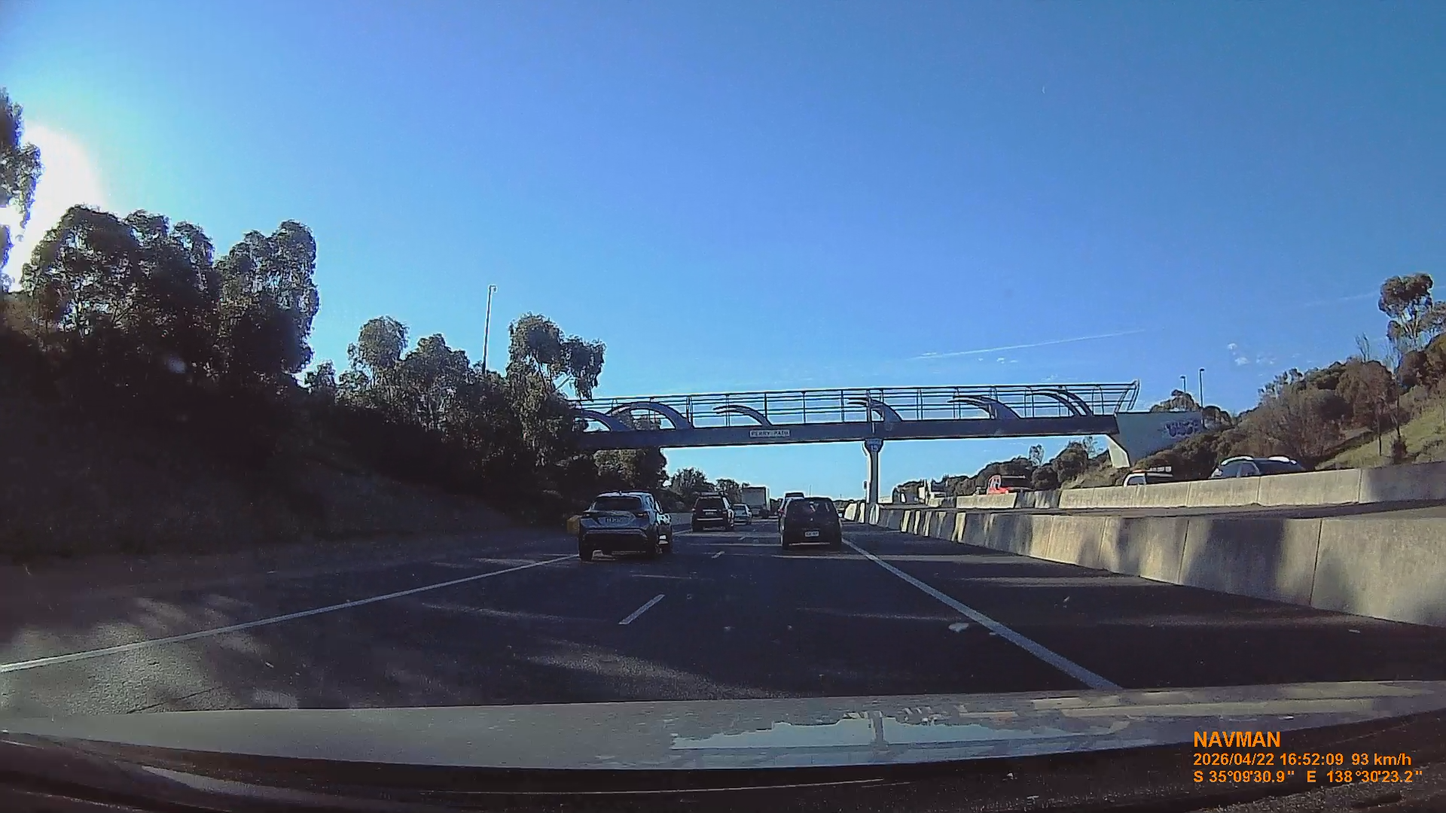road barriers: (877, 462, 1445, 628)
